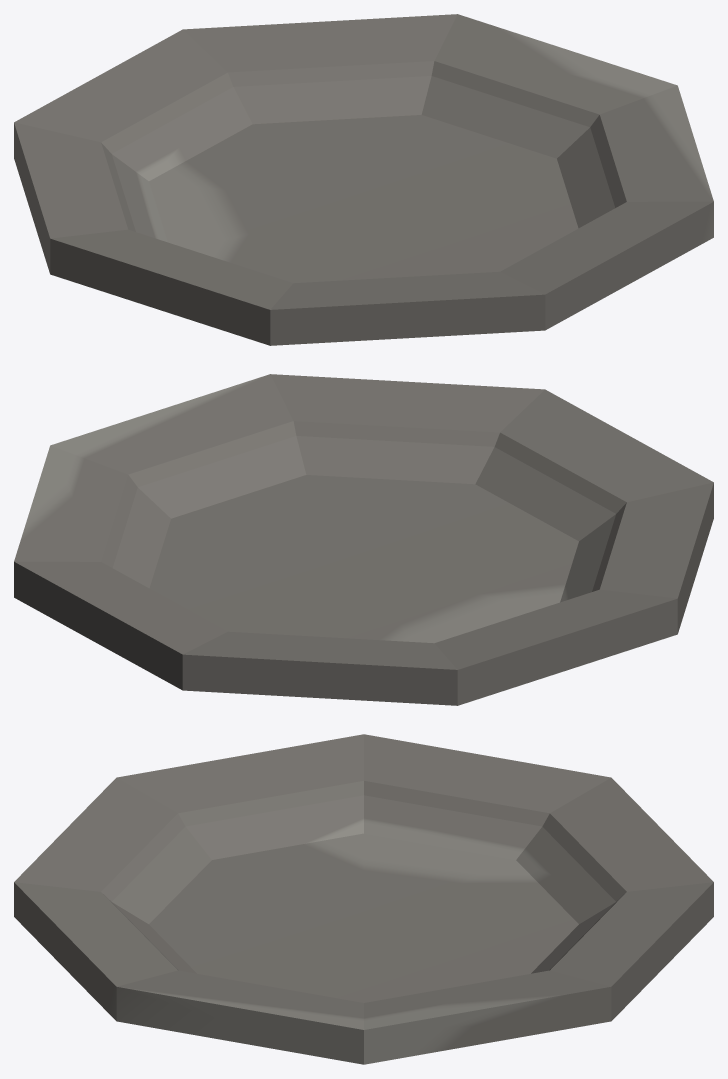
File: SM_Prop_Plate_01.fbx
3 views of the same model, one above another, from view 1: azimuth 30°, elevation 25°; view 2: azimuth 150°, elevation 25°; view 3: azimuth 270°, elevation 25° (orthographic). The views are drawn at different scales.
Parts seen in each view (by area): view 1: SM_Prop_Plate_01; view 2: SM_Prop_Plate_01; view 3: SM_Prop_Plate_01.
Boxes of the visible parts, x1,y1,x2,y2 form: SM_Prop_Plate_01: [14, 14, 713, 345]; SM_Prop_Plate_01: [14, 374, 713, 705]; SM_Prop_Plate_01: [14, 734, 713, 1064].
Bounding box in the file's own units: 42.18 × 4.6 × 42.18.
